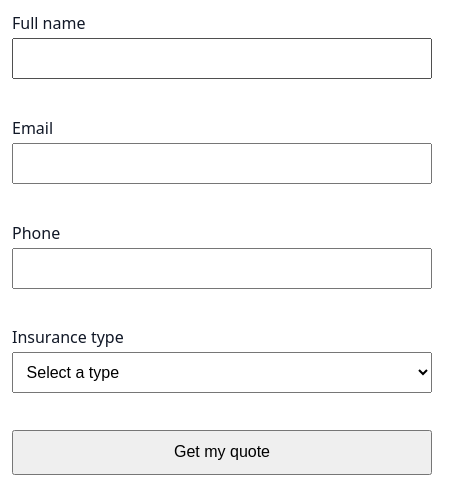
Test: QuoteForm › shows a live error for an invalid email
Step 1. Type "abc" into the field labelled "Email" → (222, 163), box [12,143,432,184]
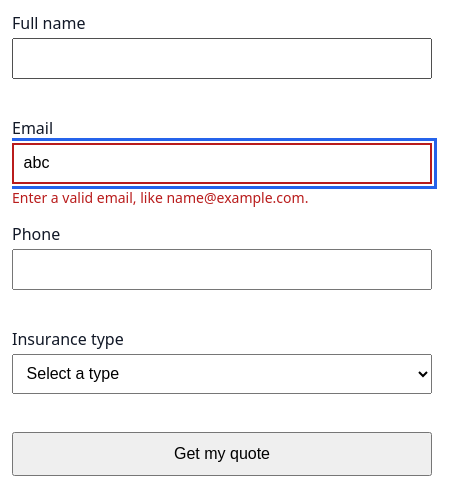
Expected: the text "Enter a valid email, like name@example.com." is shown, [12,188,308,207]
